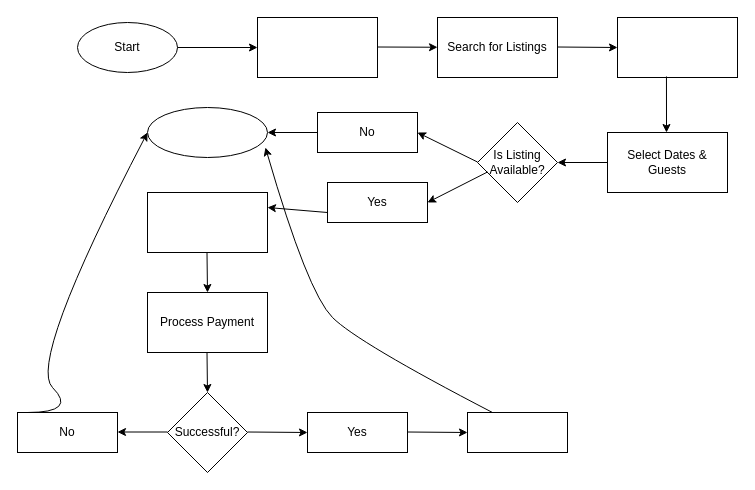
Some shapes in this 755 by 490 pixel diagram are drawn without their labels. Here are the shapes that lost their labels. From the top down, the centre of each, then its label:
[317,47]: Login/Register
[677,47]: View Listing Details
[207,132]: end
[207,222]: Enter Payment Info
[517,432]: Confirm Booking
